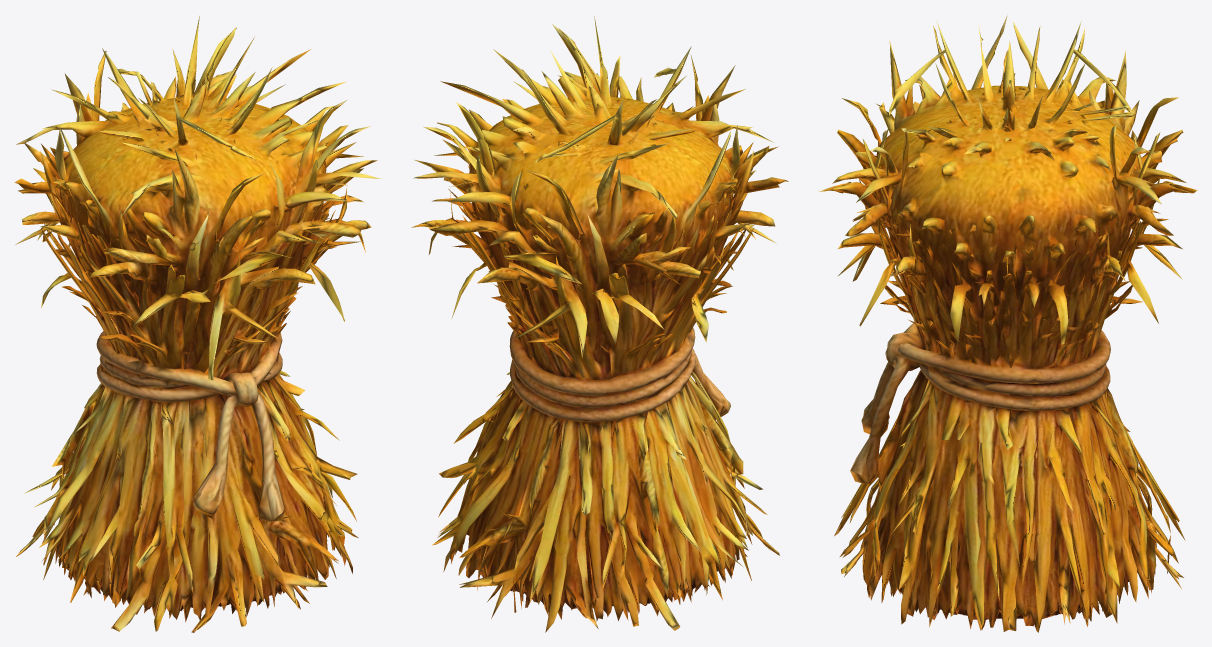
File: hay.glb
3 renders of one model, left to right at view 1: azimuth 30°, elevation 25°; view 2: azimuth 150°, elevation 25°; view 3: azimuth 270°, elevation 25°, orthographic. The views are drawn at different scales.
Parts seen in each view (by area): view 1: tripo_node_a9dc87f8-d765-4614-bed2-1108c09daa76; view 2: tripo_node_a9dc87f8-d765-4614-bed2-1108c09daa76; view 3: tripo_node_a9dc87f8-d765-4614-bed2-1108c09daa76.
Part boxes in pixels (x1,y1,x2,y2): tripo_node_a9dc87f8-d765-4614-bed2-1108c09daa76: (14, 16, 380, 632); tripo_node_a9dc87f8-d765-4614-bed2-1108c09daa76: (411, 16, 788, 632); tripo_node_a9dc87f8-d765-4614-bed2-1108c09daa76: (819, 15, 1197, 632).
Bounding box in the file's own units: 0.641 × 0.9799 × 0.6184.
Materials: 1 (1 with a texture image).
